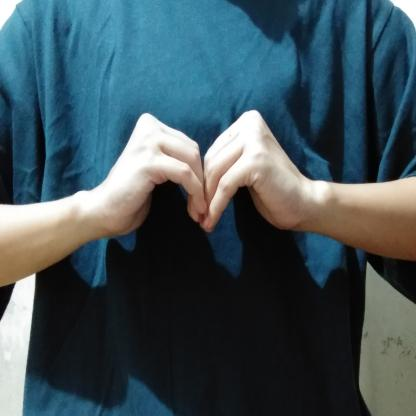how: (79, 98, 327, 259)
